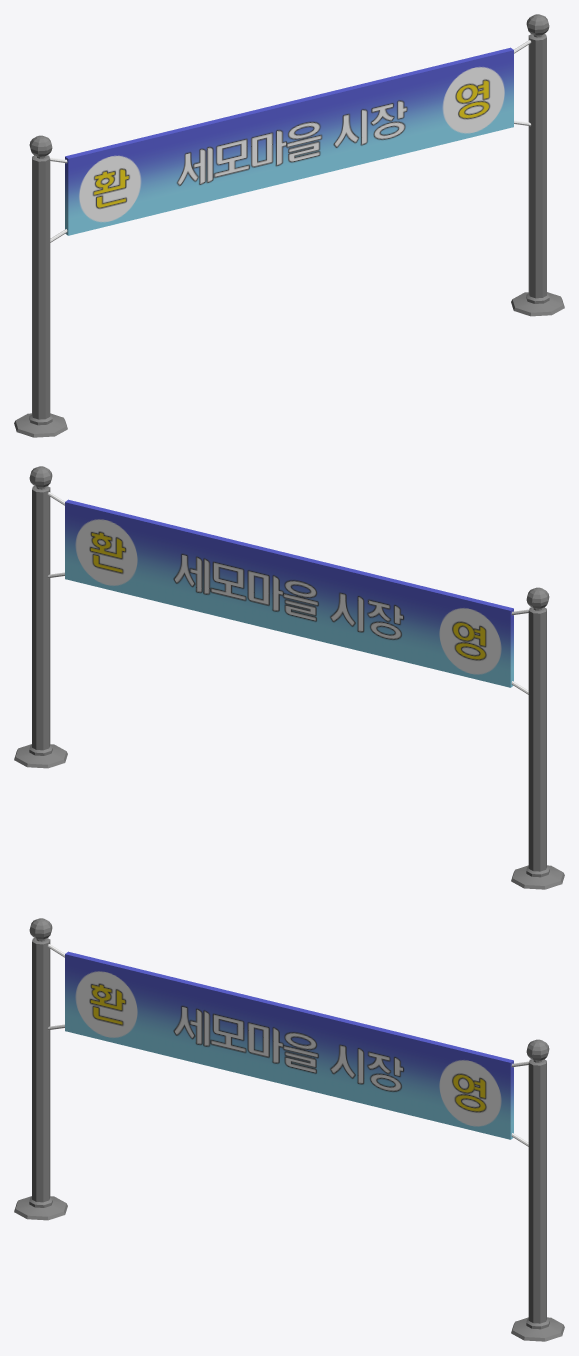
The model's file is fbx_marketSign_02.fbx.
The picture shows the model from 3 angles, top to bottom: view 1: azimuth 30°, elevation 25°; view 2: azimuth 150°, elevation 25°; view 3: azimuth 330°, elevation 25°; orthographic projection.
Visible parts, largest first — view 1: marketSign_geo_02; view 2: marketSign_geo_02; view 3: marketSign_geo_02.
Part boxes in pixels (<box>): marketSign_geo_02: <box>14,14,564,437</box>; marketSign_geo_02: <box>14,466,564,889</box>; marketSign_geo_02: <box>14,918,564,1341</box>.
Size of the model in its own units: 13.17 by 6.68 by 1.17.
1 material, 1 textured.
